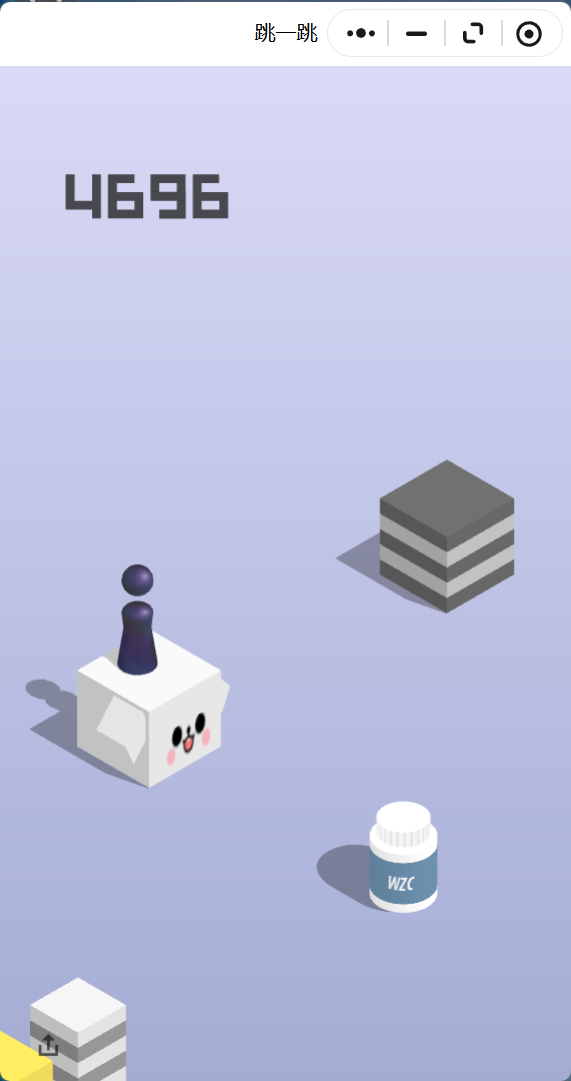piece: (122, 564, 152, 670)
target: (381, 460, 515, 537)
